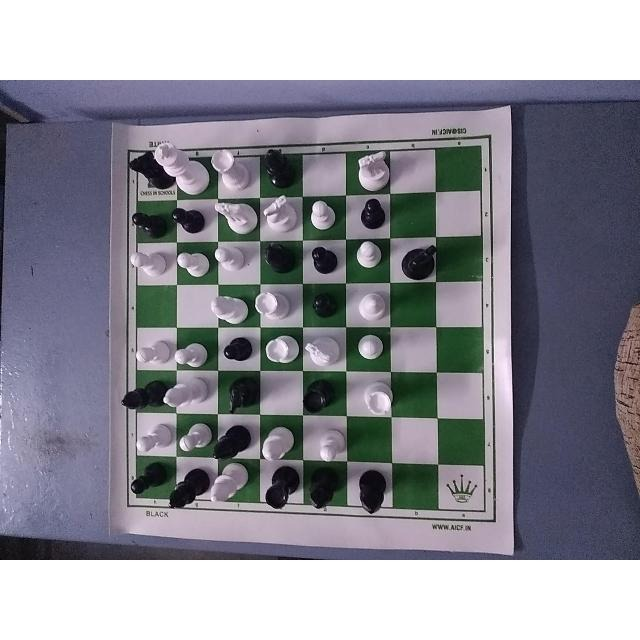black-bishop: (166, 462, 214, 510), (209, 419, 257, 465), (121, 374, 171, 415), (308, 463, 343, 517), (354, 468, 388, 523), (258, 144, 294, 191), (257, 240, 295, 279)
black-knight: (126, 145, 178, 196), (222, 369, 264, 415), (395, 246, 441, 282)
black-pawn: (129, 203, 171, 242), (128, 464, 168, 500), (302, 242, 339, 280), (169, 200, 205, 236), (358, 194, 388, 234), (218, 333, 254, 366), (307, 288, 338, 320)
black-rook: (302, 371, 343, 419), (260, 462, 298, 511)
white-bishop: (207, 464, 252, 511), (260, 420, 300, 467), (162, 376, 209, 412), (358, 284, 392, 328), (209, 291, 250, 325)
white-king: (154, 135, 210, 197)
white-knight: (299, 327, 347, 373), (213, 198, 257, 240), (259, 194, 299, 239), (356, 146, 393, 188)
white-pawn: (350, 328, 393, 374), (128, 244, 168, 285), (132, 420, 171, 460), (215, 243, 254, 282), (135, 336, 175, 372), (179, 419, 213, 459), (317, 425, 351, 465), (172, 336, 211, 369), (180, 243, 212, 283), (309, 195, 339, 233), (350, 238, 378, 270)
white-rook: (207, 148, 251, 196), (359, 379, 395, 419), (263, 332, 300, 368), (253, 288, 293, 321)
